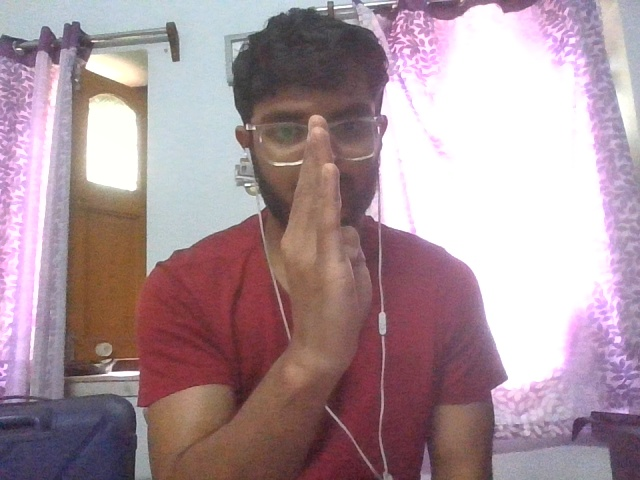LiveLong: (279, 113, 374, 361)
